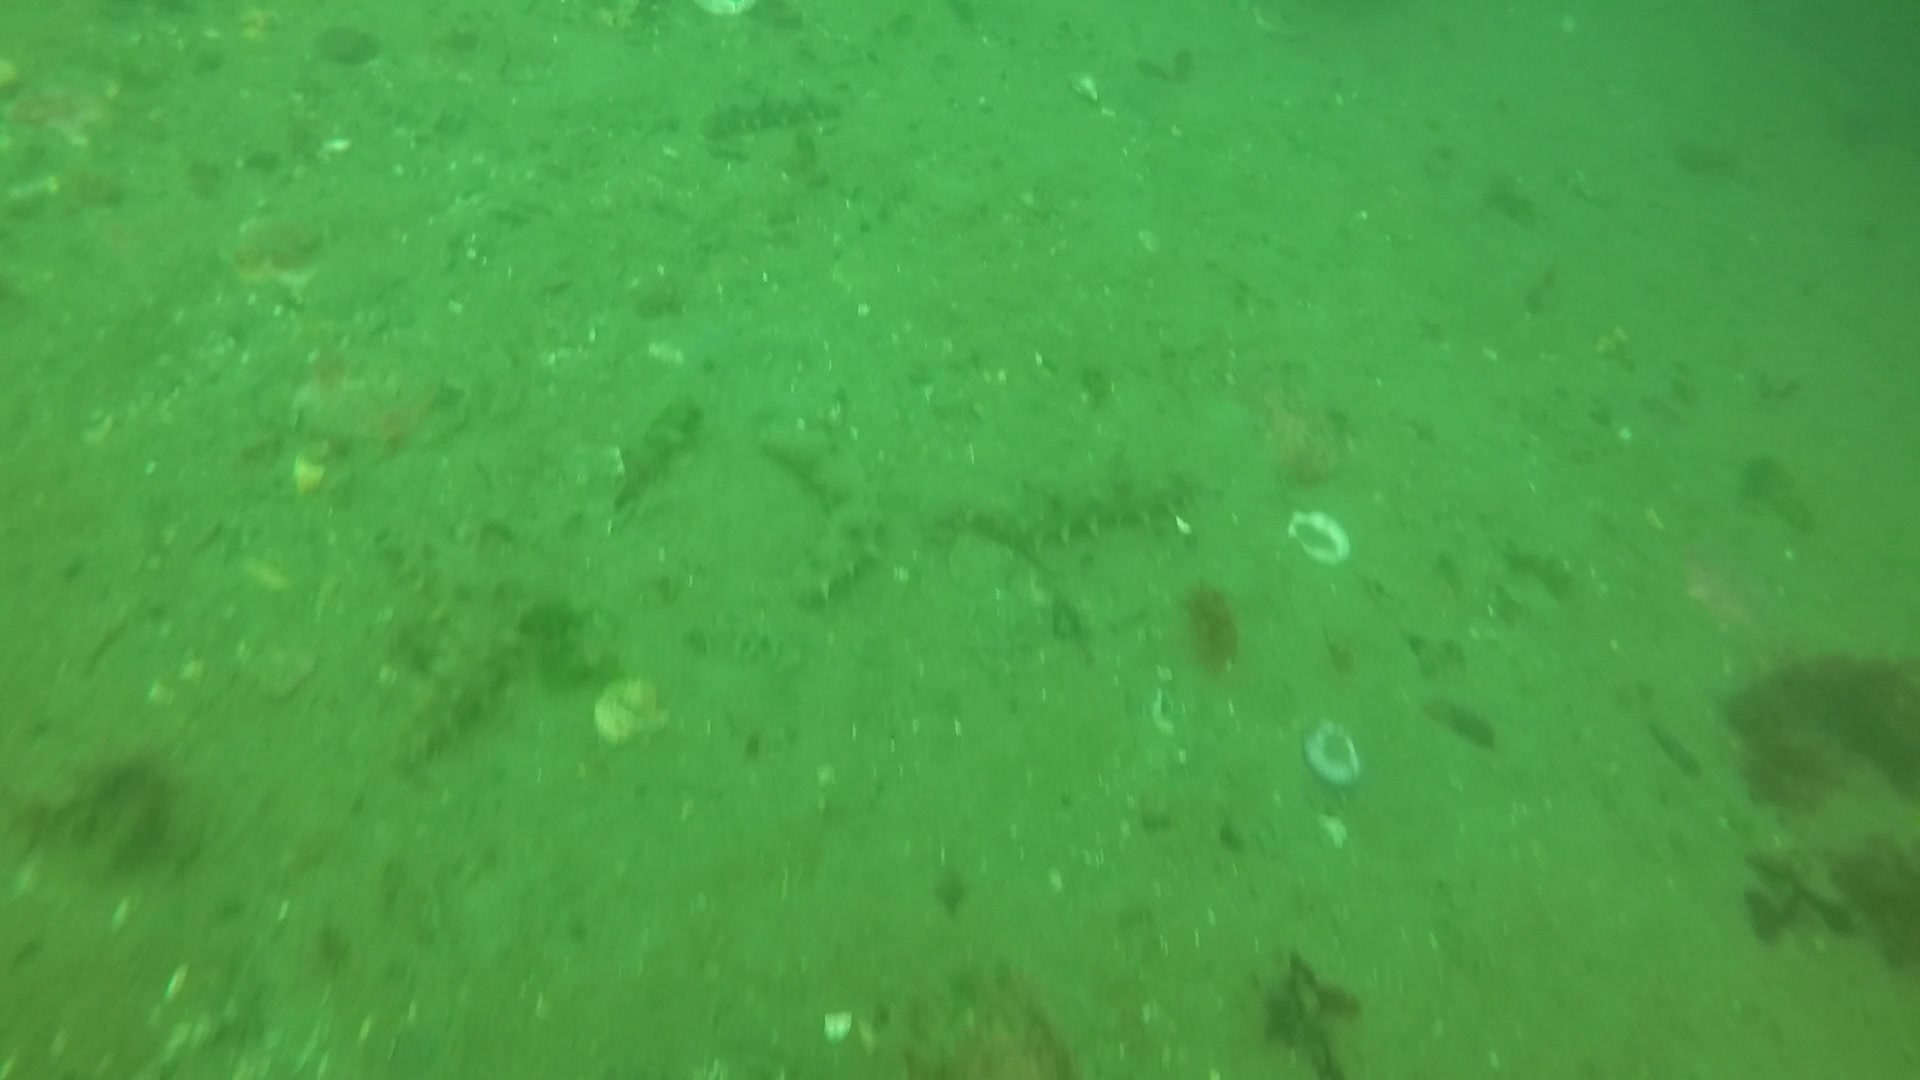holothurian: (371, 527, 516, 754), (757, 425, 887, 605), (928, 469, 1201, 545), (700, 87, 845, 142)
scallop: (593, 673, 676, 752)
